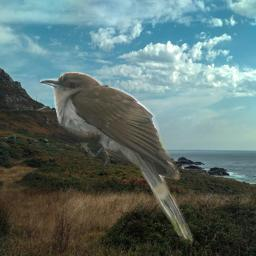Cuckoo: (40, 72, 193, 246)
